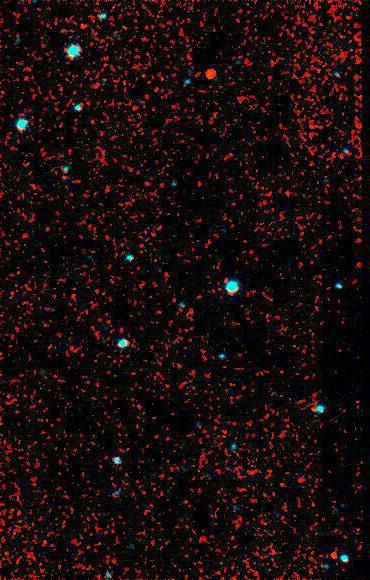star: (66, 16, 96, 46)
